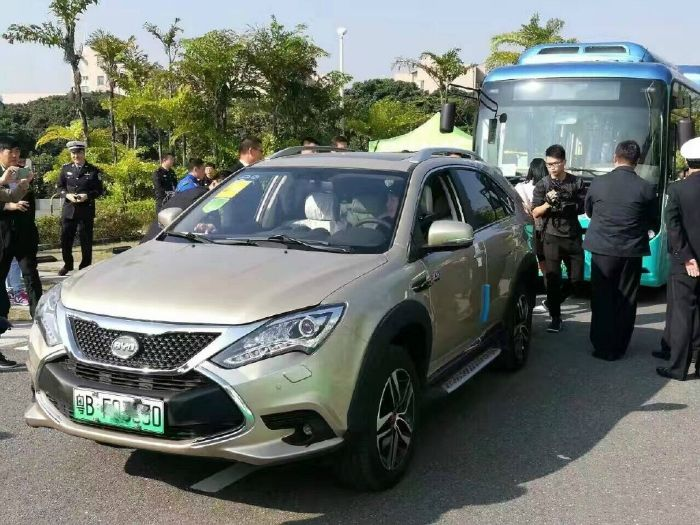plate: (65, 374, 176, 450)
